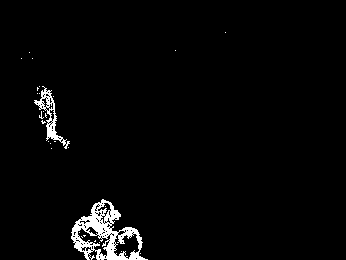person: (30, 84, 71, 158)
